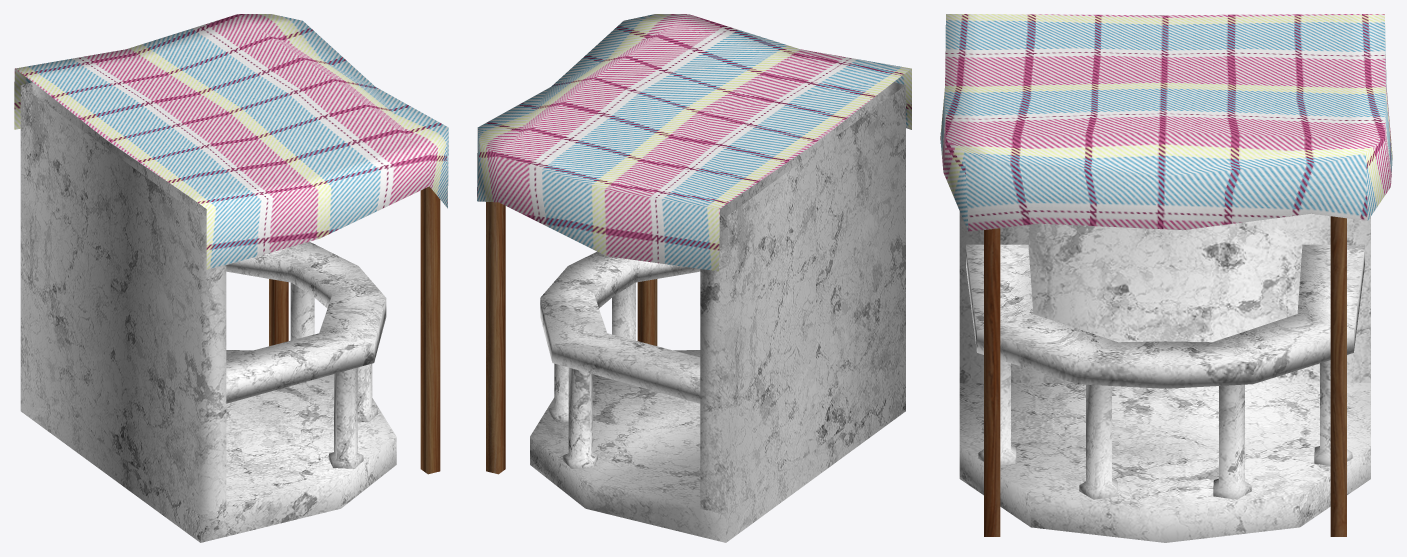
Rendered from VineMarket.fbx.
The picture shows the model from 3 angles, left to right: view 1: azimuth 30°, elevation 25°; view 2: azimuth 150°, elevation 25°; view 3: azimuth 270°, elevation 25°; orthographic projection. The views are drawn at different scales.
Visible parts, largest first — view 1: Cube; view 2: Cube; view 3: Cube.
Part boxes in pixels (x1,y1,x2,y2): Cube: (14, 14, 448, 542); Cube: (477, 14, 911, 542); Cube: (940, 14, 1392, 542).
Bounding box in the file's own units: 173 × 211 × 220.
